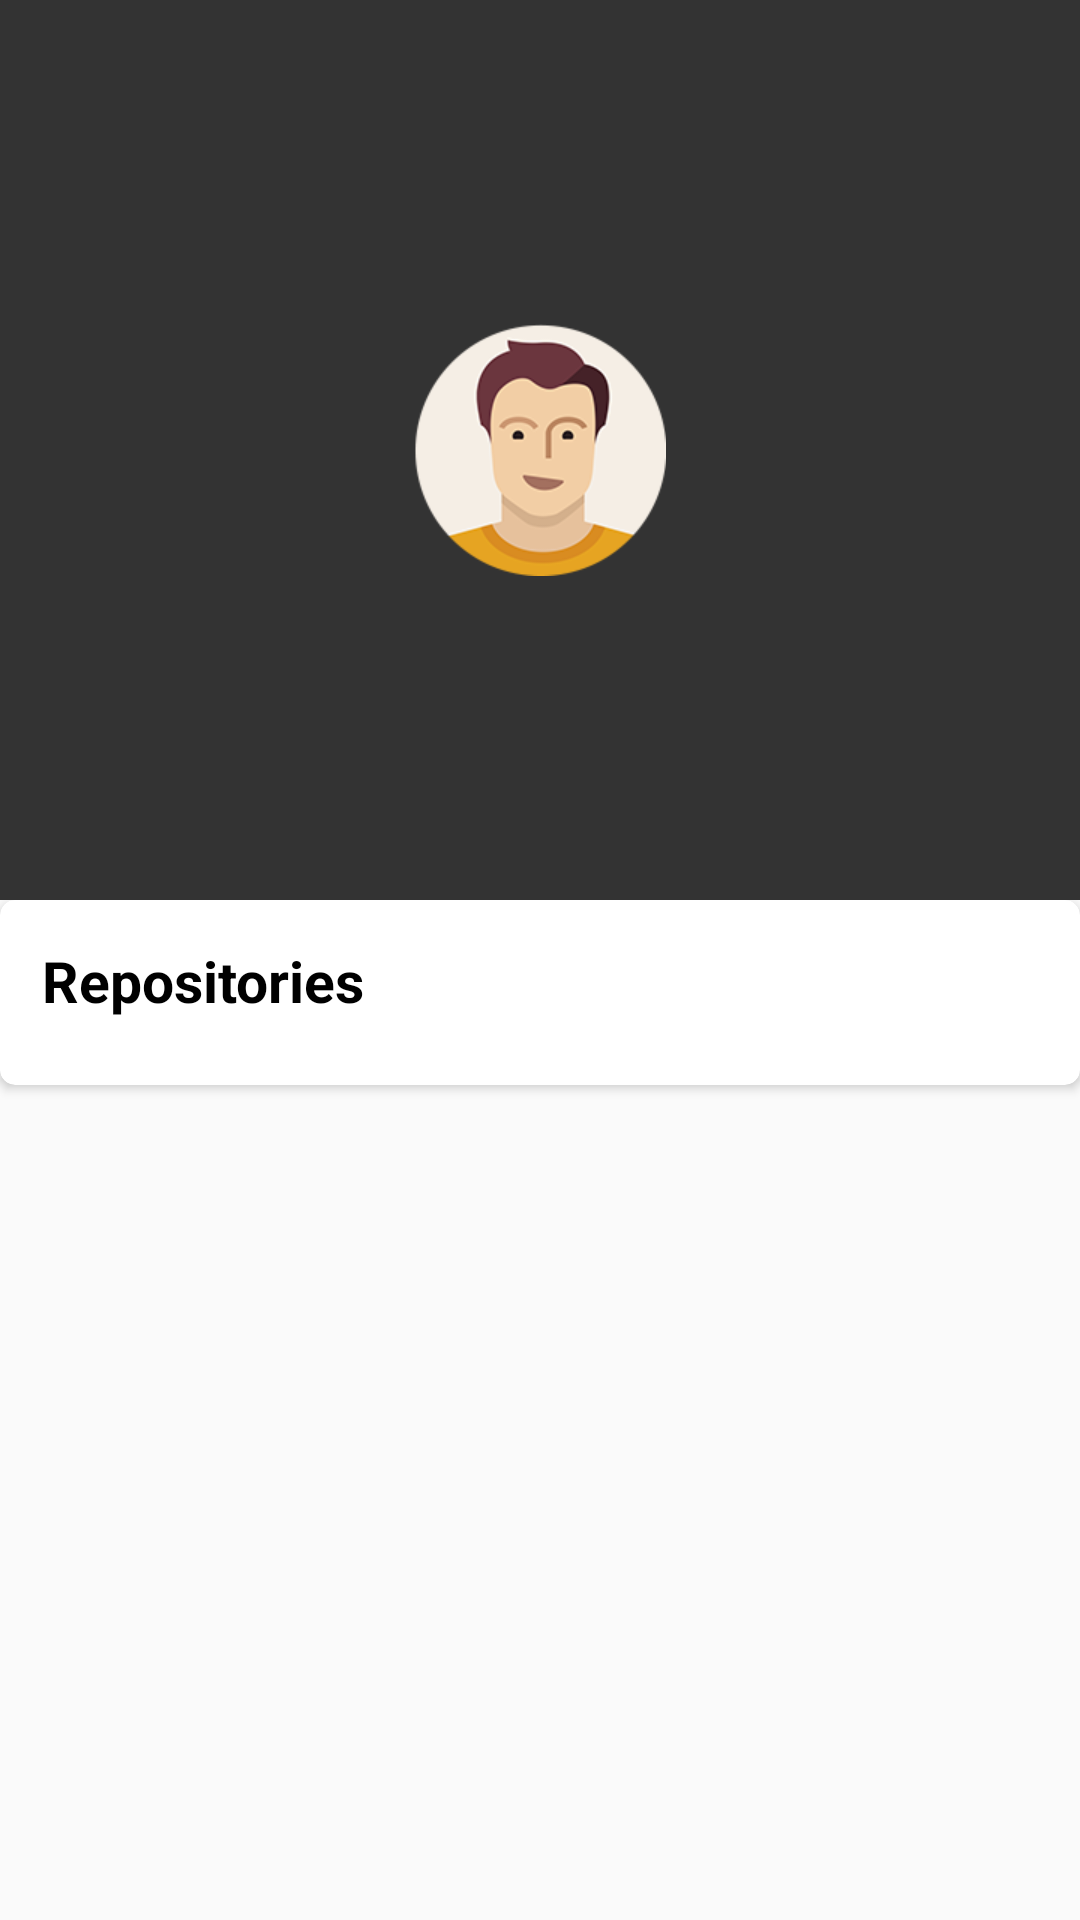

Point at icon controls on the screen. Image size 1080x1920, points as point (x, y).
profile: point (540, 450)
